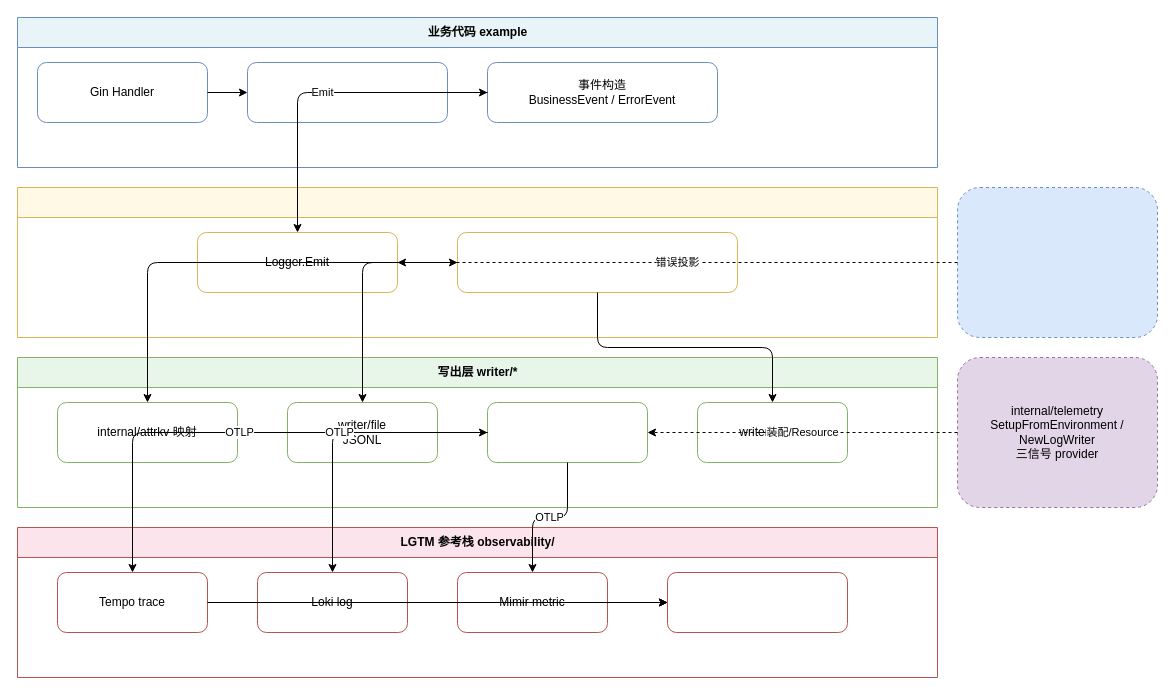
Some shapes in this 1175 by 695 pixel diagram are drawn without their labels. Each missing label, with the box of its shape:
ginlog / recover 中间件: (246, 62, 448, 122)
Grafana: (666, 572, 848, 632)
writer/otlp gRPC: (486, 402, 648, 462)
归一化扁平 attrs 双投影 semconv + app.*: (456, 232, 738, 292)
核心包 log（零外部依赖）: (16, 186, 938, 338)
错误体系 errs AppError / error.type / LevelOf: (956, 186, 1158, 338)
